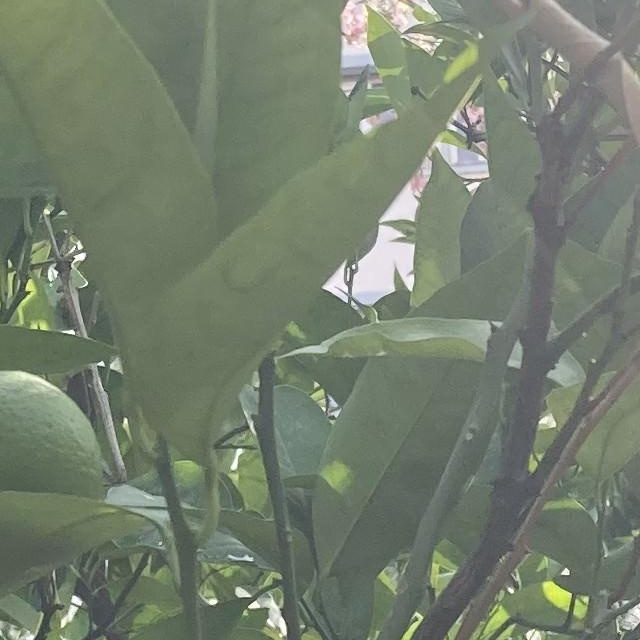orange: (0, 349, 111, 561)
